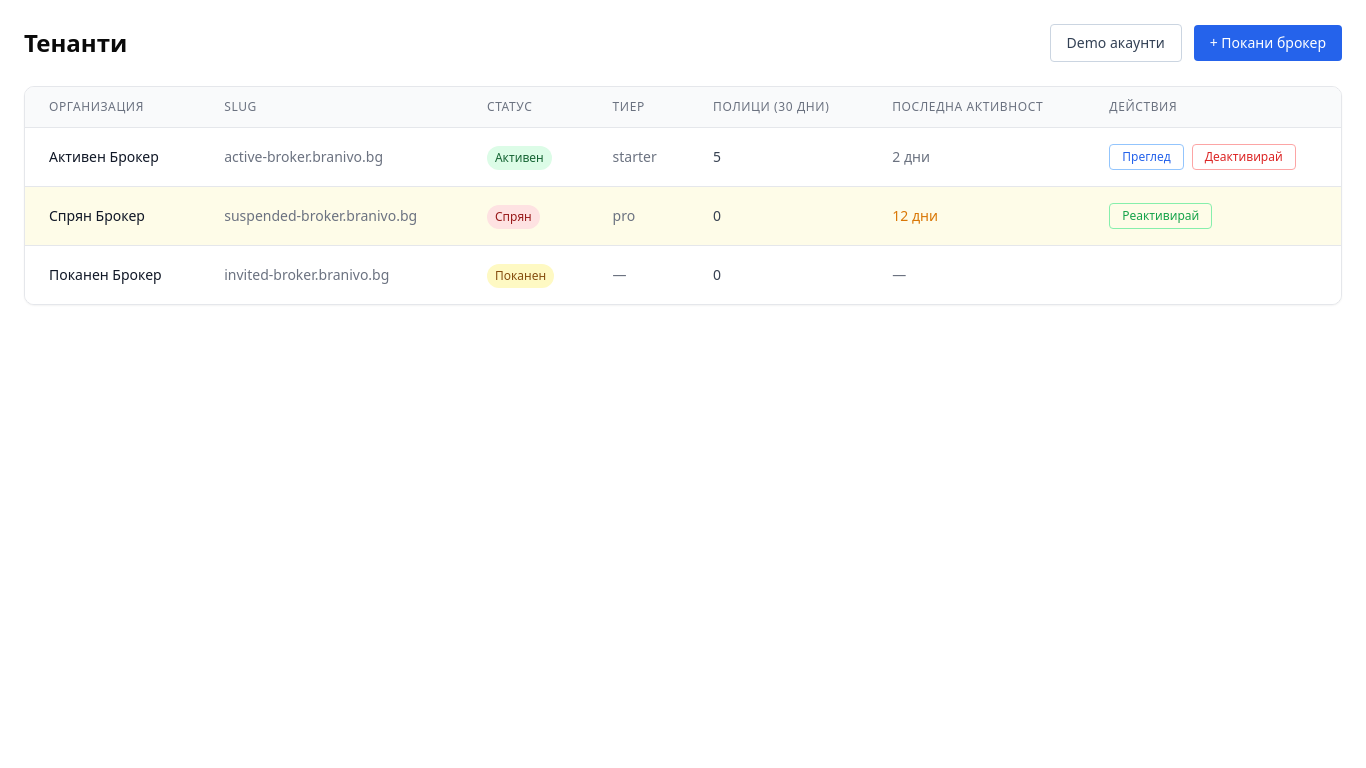
Test: AdminTenantsPage — ConfirmStatusModal › opens ConfirmStatusModal with correct text when clicking "Реактивирай"
The width and height of the screenshot is (1366, 768).
Expected: the text "Спрян Брокер" is shown, [49,206,145,225]
Click the button "Реактивирай" at [1161, 216], box [1109,203,1212,229]
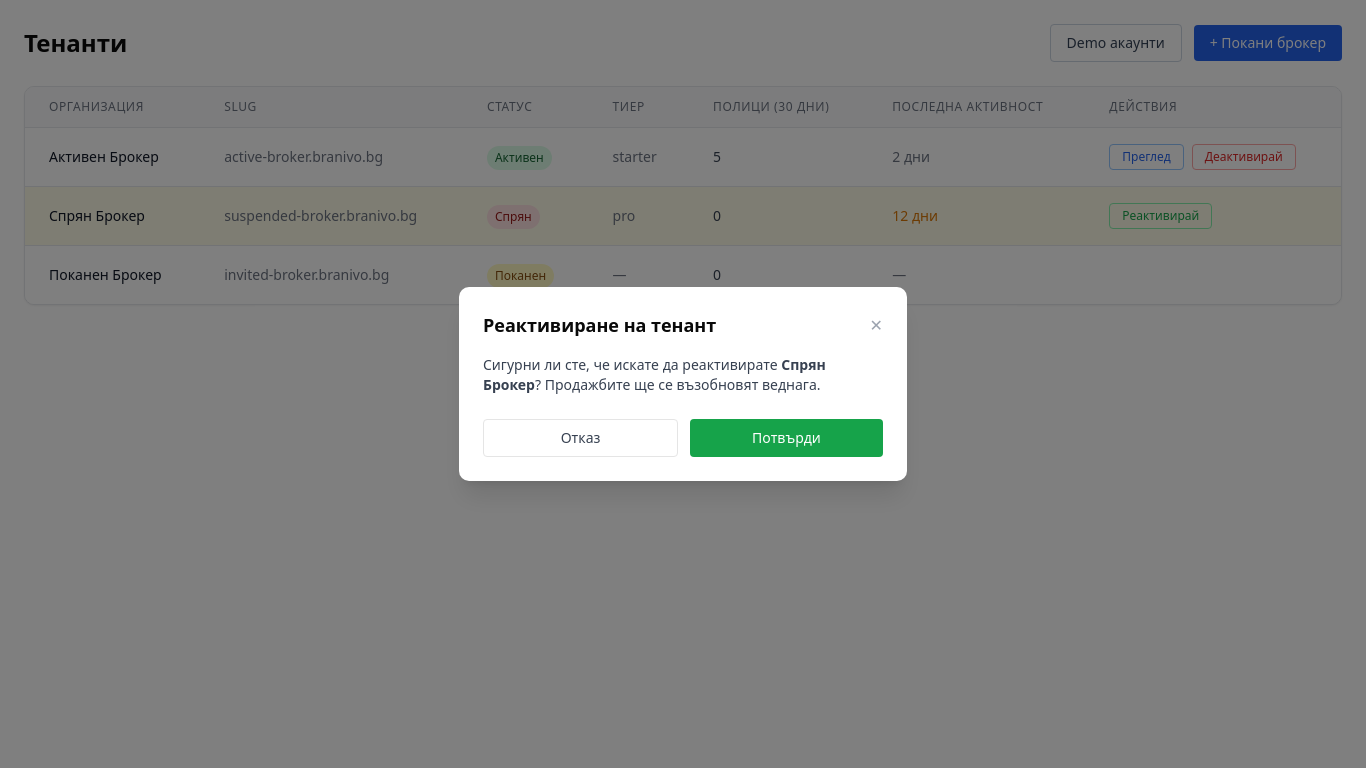
Expected: the heading "Реактивиране на тенант" is shown, [483,311,716,339]
Expected: the text "Продажбите ще се възобновят" is shown, [535,375,820,394]
